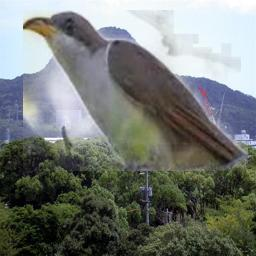Cuckoo: (23, 10, 248, 171)
